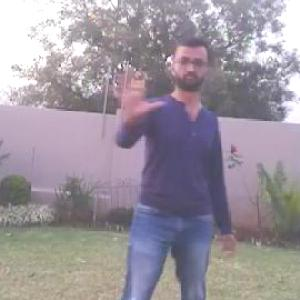follow_hand: (112, 58, 167, 119)
